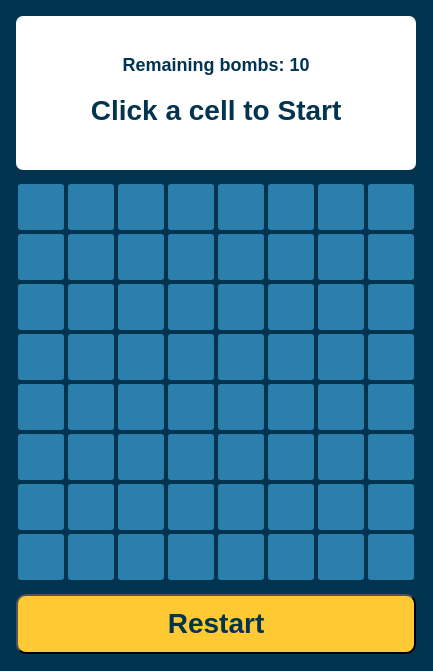
Mine Sweeper tests › renders a flag when you use the context menu
Right-click the 1st element with test id "cellItem" at (41, 206), box x1=16 y1=182 x2=66 y2=232
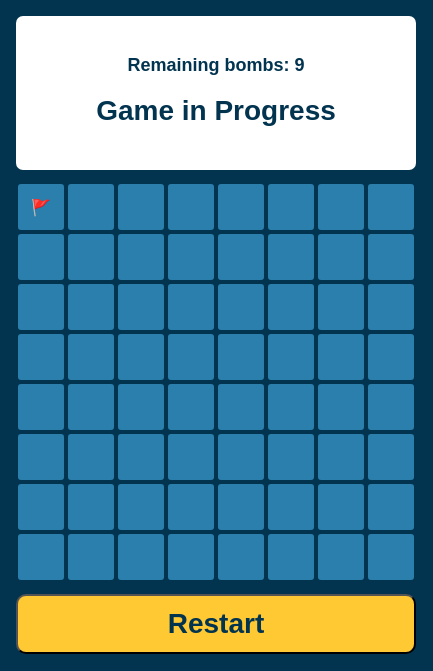
Expected: the text "🚩" is shown, x1=16 y1=182 x2=66 y2=232
Expected: the text "Remaining bombs: 9" is shown, x1=128 y1=55 x2=304 y2=75
